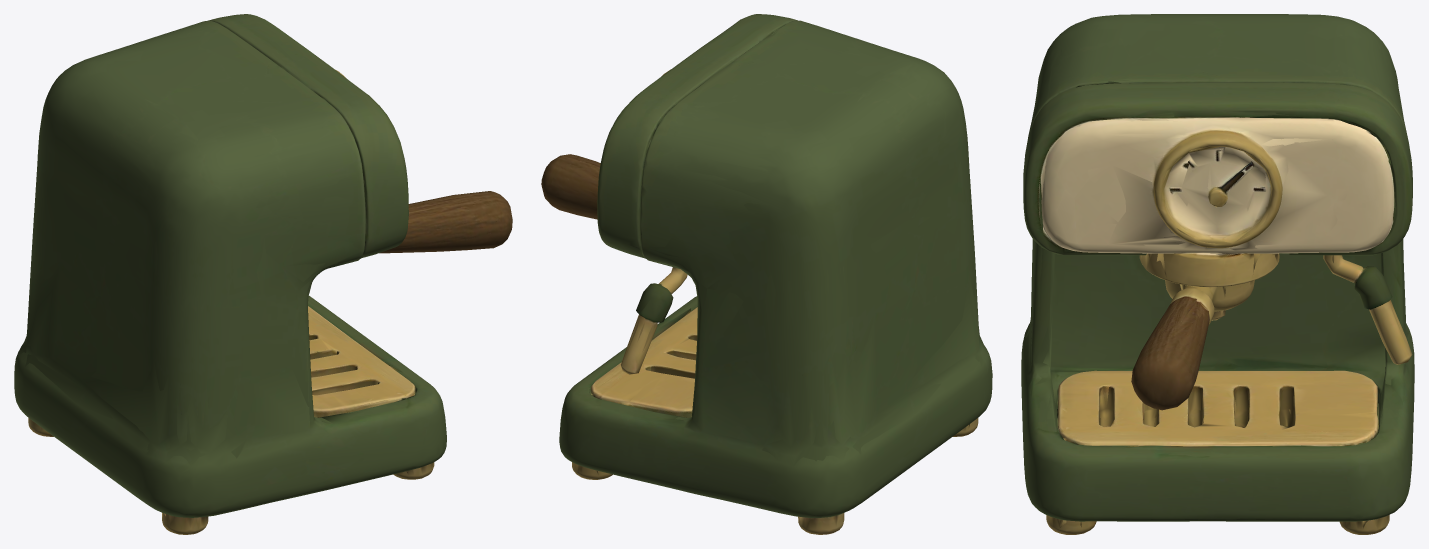
The model's file is diner-espresso.glb.
3 renders of one model, left to right at view 1: azimuth 30°, elevation 25°; view 2: azimuth 150°, elevation 25°; view 3: azimuth 270°, elevation 25°, orthographic. The views are drawn at different scales.
Visible parts, largest first — view 1: Detailed view, Room view; view 2: Detailed view, Room view; view 3: Detailed view, Room view.
Boxes of the visible parts, box(x1,y1,x2,y2) form: Detailed view: box(14, 14, 512, 534); Room view: box(19, 18, 511, 533); Detailed view: box(541, 14, 992, 534); Room view: box(541, 14, 987, 524); Detailed view: box(1021, 14, 1414, 534); Room view: box(1022, 14, 1414, 531).
Size of the model in its own units: 0.9801 by 0.8795 by 0.7617.
1 material, 1 textured.
